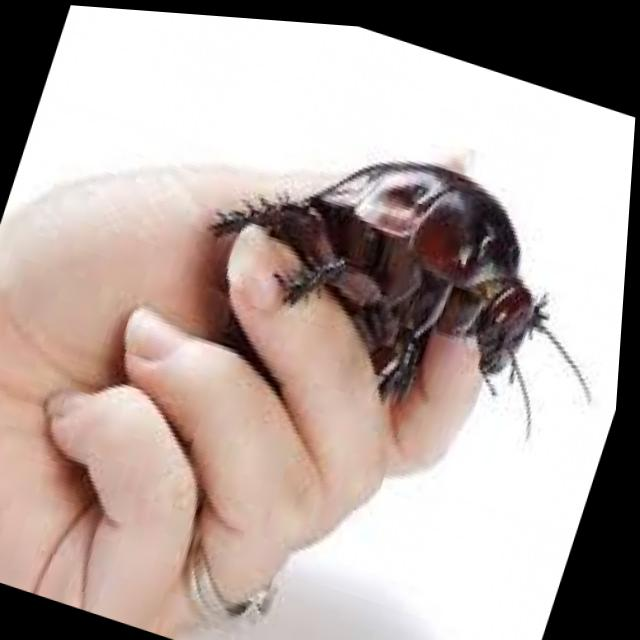Cockroach: (162, 80, 636, 458)
